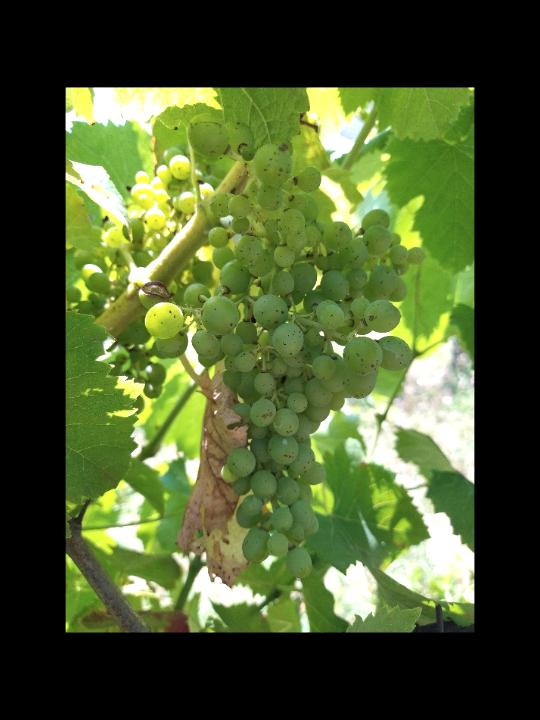grape: (138, 110, 425, 579)
